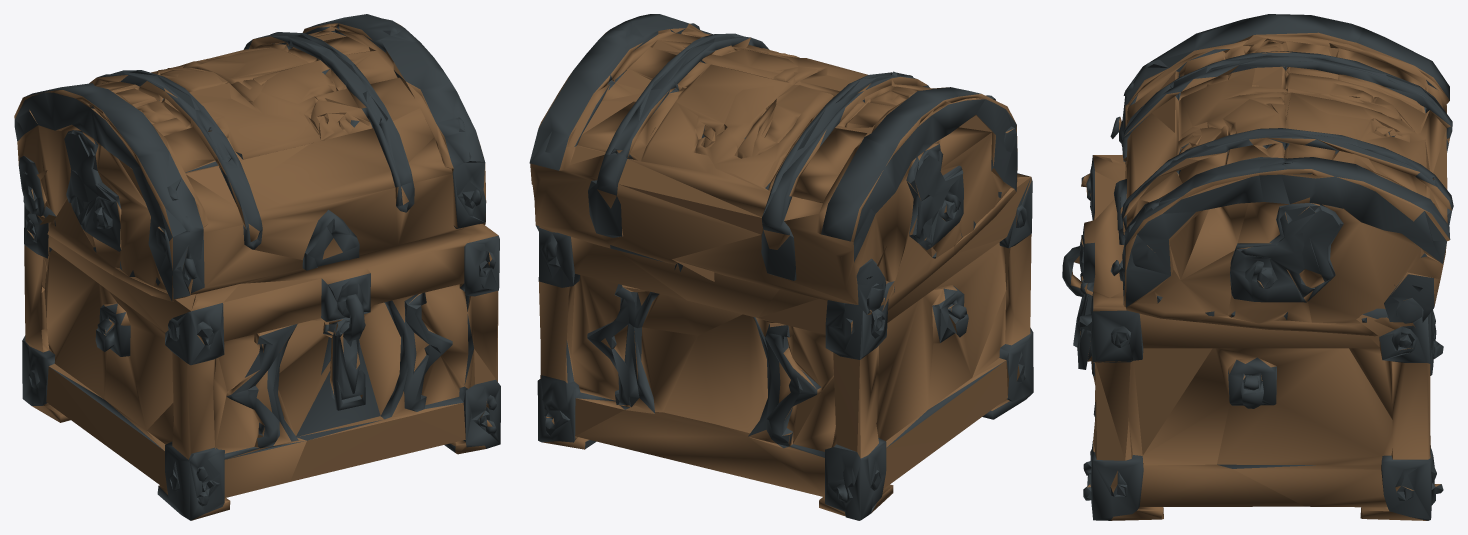
The model's file is generated-chest.glb.
3 renders of one model, left to right at view 1: azimuth 30°, elevation 25°; view 2: azimuth 150°, elevation 25°; view 3: azimuth 270°, elevation 25°, orthographic. The views are drawn at different scales.
Parts seen in each view (by area): view 1: Generated supply chest; view 2: Generated supply chest; view 3: Generated supply chest.
Boxes of the visible parts, left/top/right/bottom form: Generated supply chest: left=14, top=14, right=500, bottom=520; Generated supply chest: left=529, top=14, right=1033, bottom=520; Generated supply chest: left=1062, top=14, right=1453, bottom=520.
Bounding box in the file's own units: 1 × 1 × 1.
